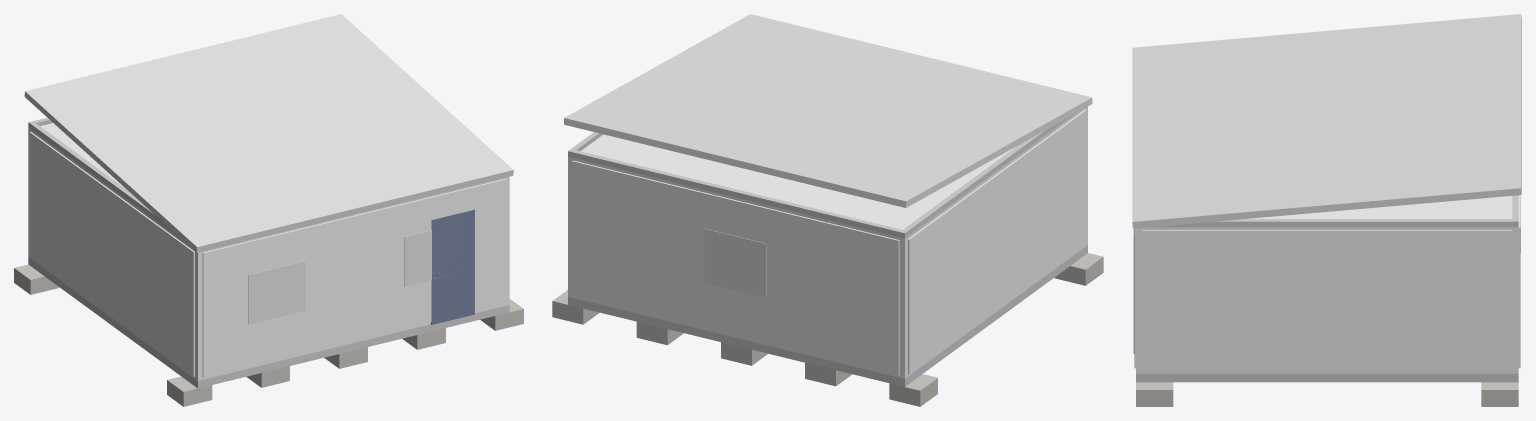
Rendered from Studio-20-SlopingRoof-LOD1.glb.
3 views of the same model, side by side, from view 1: azimuth 30°, elevation 25°; view 2: azimuth 150°, elevation 25°; view 3: azimuth 270°, elevation 25° (orthographic). The views are drawn at different scales.
Parts seen in each view (by area): view 1: RoofSlopingUpgrade, ExteriorPanelsStandard, EntryDoor, WindowsStandard, FoundationBlocks, ExteriorShell, BaseFrame, TopFrame, InteriorCeiling; view 2: ExteriorPanelsStandard, RoofSlopingUpgrade, InteriorCeiling, ExteriorShell, FoundationBlocks, TopFrame, BaseFrame, WindowsStandard; view 3: RoofSlopingUpgrade, ExteriorPanelsStandard, ExteriorShell, BaseFrame, InteriorCeiling, TopFrame, FoundationBlocks.
Part boxes in pixels (x1,y1,x2,y2): RoofSlopingUpgrade: (24, 14, 513, 252); ExteriorPanelsStandard: (29, 132, 505, 377); EntryDoor: (431, 209, 474, 324); WindowsStandard: (248, 230, 447, 324); FoundationBlocks: (14, 264, 523, 406); ExteriorShell: (28, 127, 509, 380); BaseFrame: (28, 257, 509, 388); TopFrame: (28, 117, 181, 239); InteriorCeiling: (40, 123, 125, 188); ExteriorPanelsStandard: (572, 109, 1086, 375); RoofSlopingUpgrade: (564, 14, 1092, 207); InteriorCeiling: (581, 134, 1015, 229); ExteriorShell: (568, 106, 1087, 378); FoundationBlocks: (552, 253, 1103, 406); TopFrame: (568, 113, 1075, 238); BaseFrame: (568, 245, 1087, 386); WindowsStandard: (704, 228, 766, 297); RoofSlopingUpgrade: (1132, 14, 1521, 228); ExteriorPanelsStandard: (1134, 195, 1520, 371); ExteriorShell: (1136, 227, 1518, 373); BaseFrame: (1136, 373, 1518, 382); InteriorCeiling: (1248, 196, 1512, 218); TopFrame: (1152, 195, 1518, 227); FoundationBlocks: (1136, 382, 1518, 406).
Bounding box in the file's own units: 7.14 × 3.77 × 6.27.
